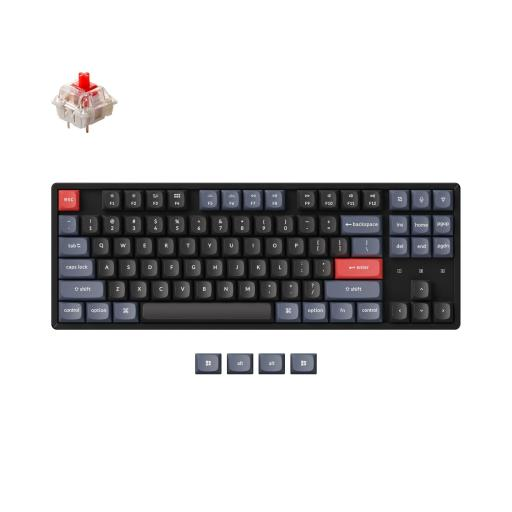keyboard: (49, 183, 465, 331)
